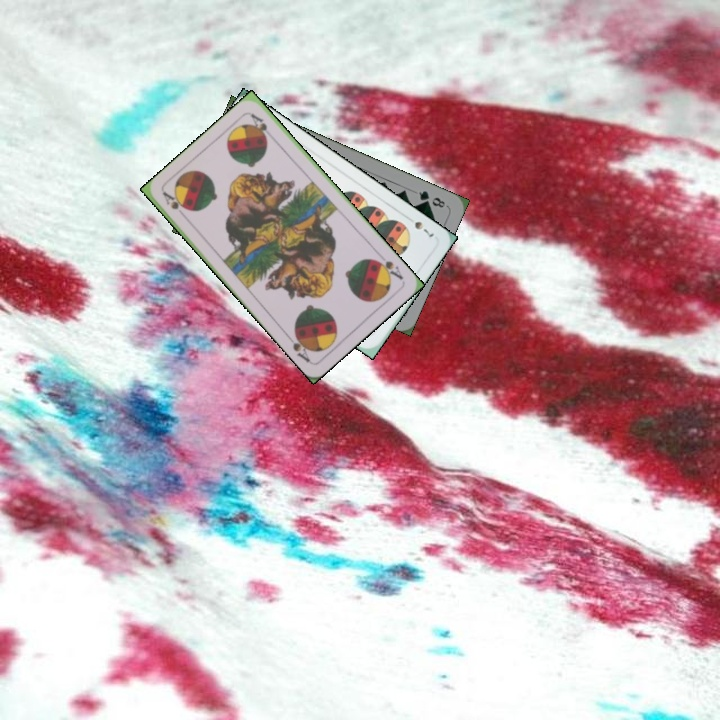G8: (414, 187, 448, 210)
S7: (410, 217, 437, 240)
SA: (159, 188, 190, 222), (370, 255, 406, 282)
